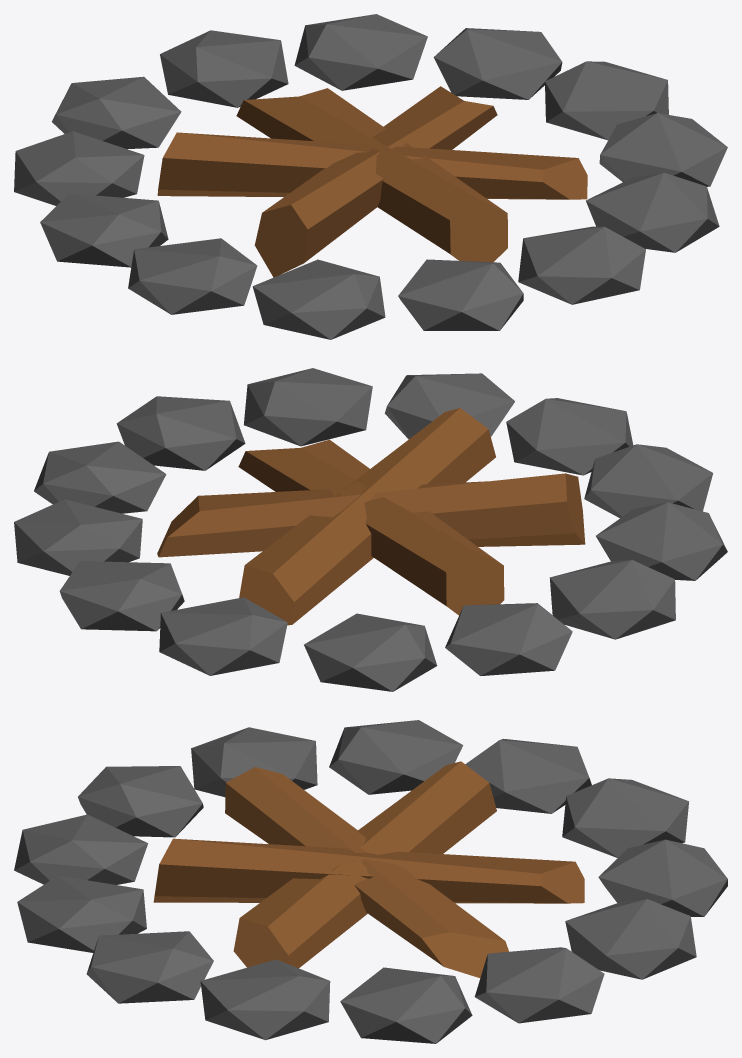
Rendered from Camp_Fire.fbx.
3 views of the same model, one above another, from view 1: azimuth 30°, elevation 25°; view 2: azimuth 150°, elevation 25°; view 3: azimuth 270°, elevation 25° (orthographic).
Visible parts, largest first — view 1: Cylinder.002; view 2: Cylinder.002; view 3: Cylinder.002.
Boxes of the visible parts, left/top/right/bottom form: Cylinder.002: left=14, top=14, right=727, bottom=339; Cylinder.002: left=14, top=368, right=727, bottom=691; Cylinder.002: left=14, top=720, right=727, bottom=1043.
Size of the model in its own units: 102 by 11.74 by 101.
